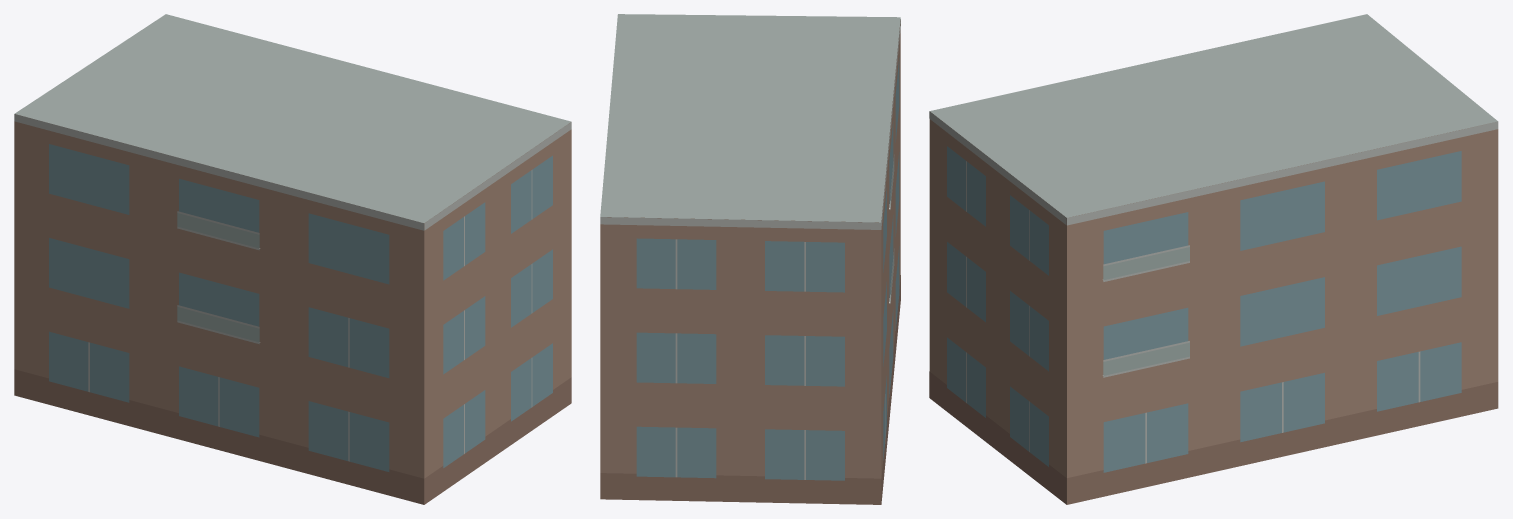
Rendered from survey-upis-32547277.glb.
The picture shows the model from 3 angles, left to right: view 1: azimuth 30°, elevation 25°; view 2: azimuth 150°, elevation 25°; view 3: azimuth 270°, elevation 25°; orthographic projection.
Parts seen in each view (by area): view 1: survey-upis-32547277.tmp; view 2: survey-upis-32547277.tmp; view 3: survey-upis-32547277.tmp.
Part boxes in pixels (box(x1,y1,x2,y2)): survey-upis-32547277.tmp: box(14, 14, 571, 504); survey-upis-32547277.tmp: box(600, 14, 900, 504); survey-upis-32547277.tmp: box(929, 14, 1498, 504).
Size of the model in its own units: 13.95 by 9.15 by 16.44.
